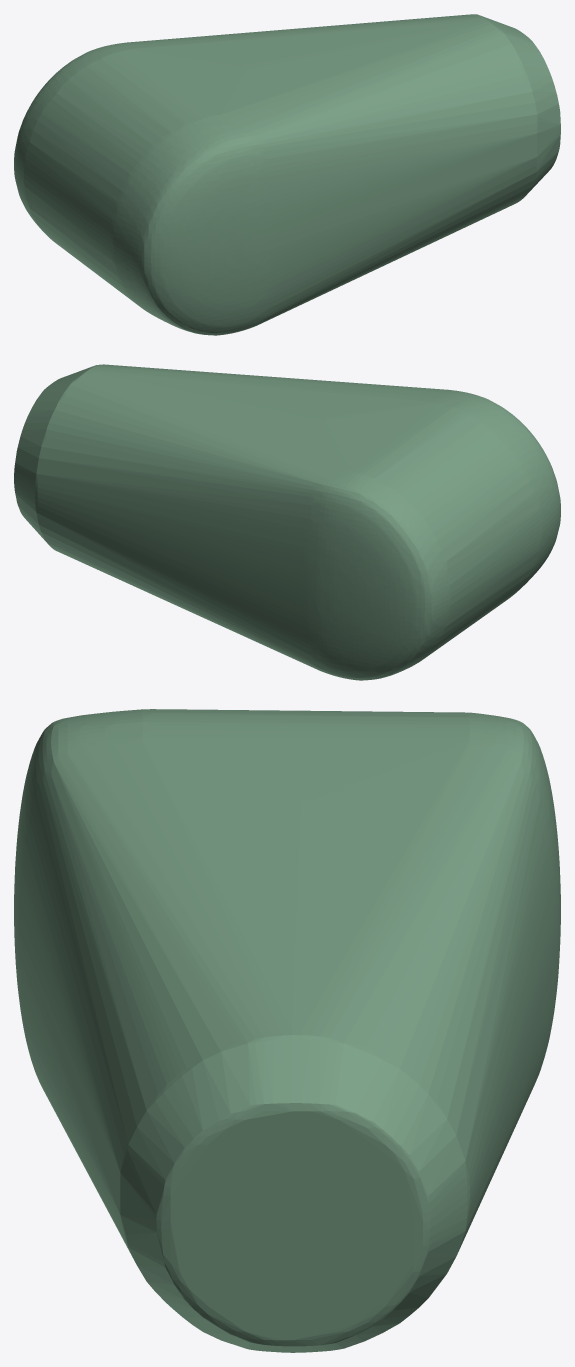
Rendered from arm_l2.obj.
3 views of the same model, one above another, from view 1: azimuth 30°, elevation 25°; view 2: azimuth 150°, elevation 25°; view 3: azimuth 270°, elevation 25° (orthographic). The views are drawn at different scales.
Parts seen in each view (by area): view 1: geometry_0; view 2: geometry_0; view 3: geometry_0.
Boxes of the visible parts, x1,y1,x2,y2 form: geometry_0: (14, 14, 560, 335); geometry_0: (14, 364, 560, 680); geometry_0: (14, 709, 560, 1352).
Size of the model in its own units: 0.2109 by 0.0907 by 0.1222.
